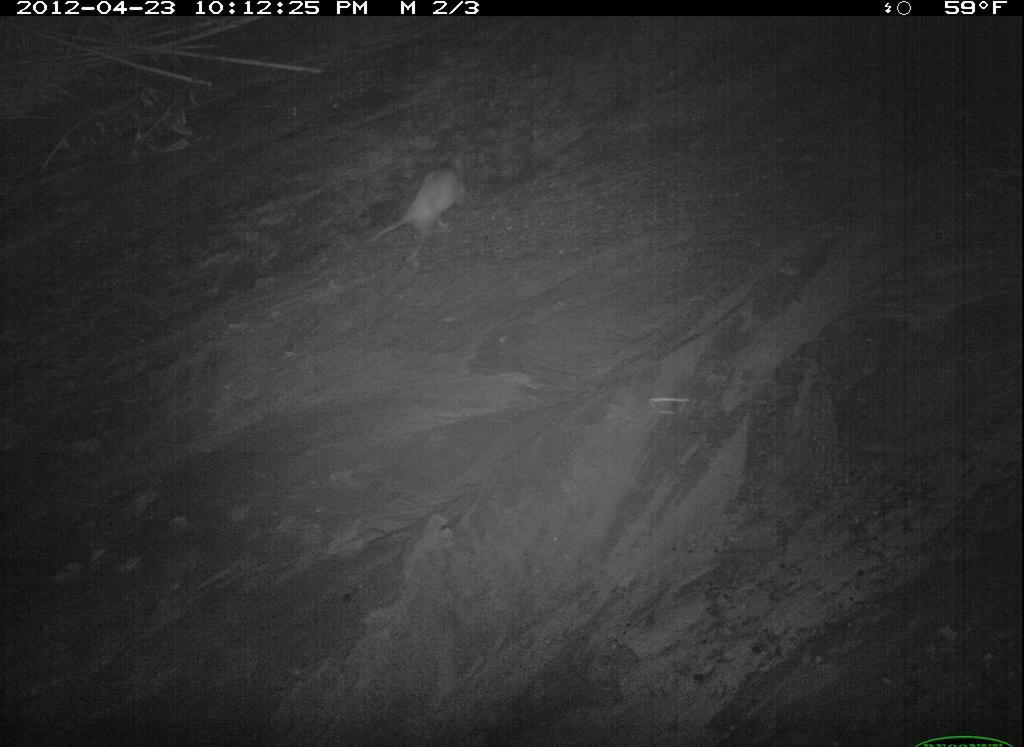opossum: (730, 297, 950, 548)
